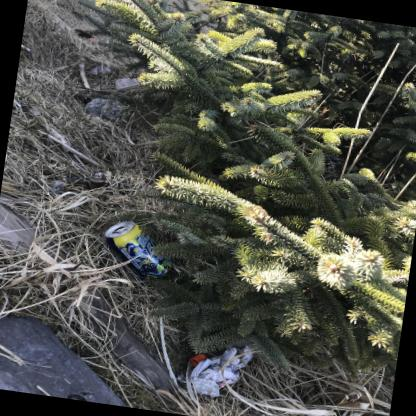Metal: (104, 221, 172, 280), (115, 227, 127, 232)
Plastic: (189, 353, 206, 366)
Waste: (190, 338, 255, 387), (191, 377, 219, 397), (115, 78, 139, 89), (88, 65, 110, 72)
